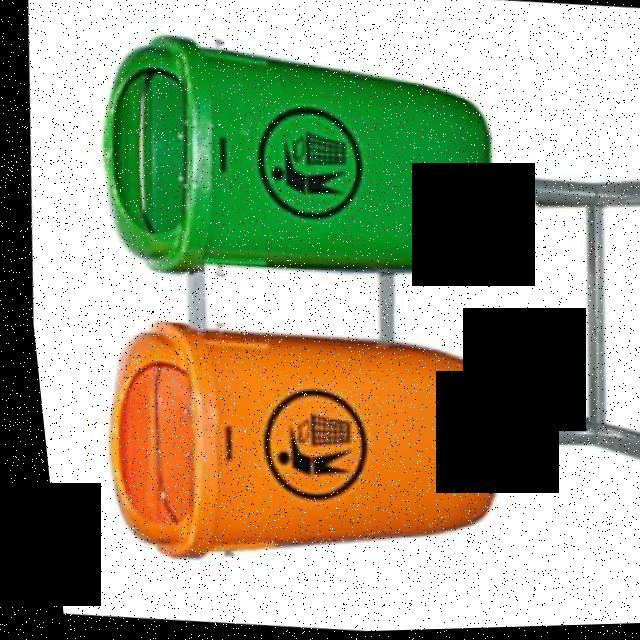bin: (61, 293, 516, 598), (69, 17, 524, 321)
